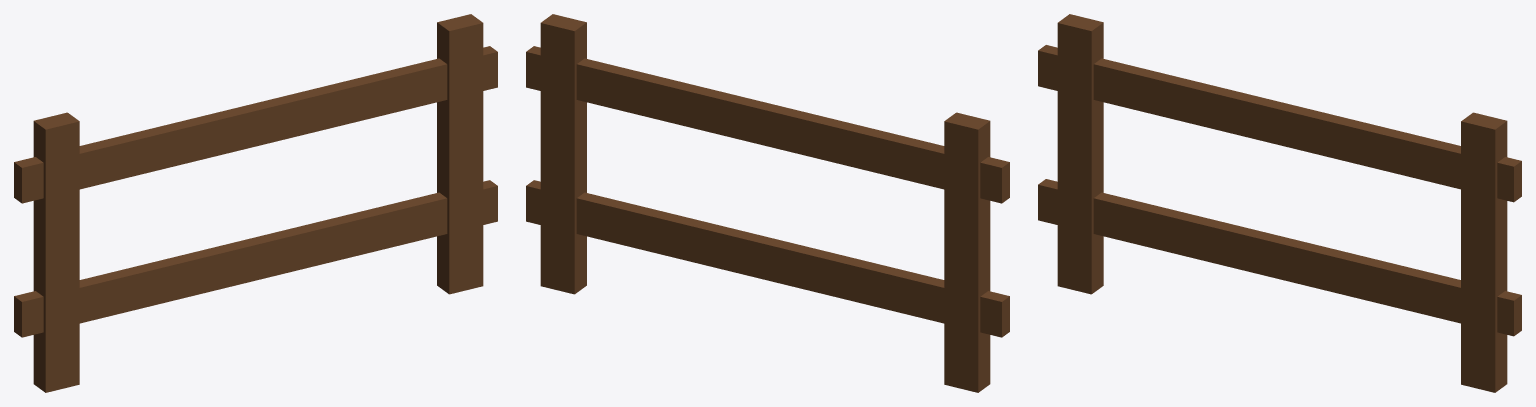
Rendered from fence_1.fbx.
3 views of the same model, side by side, from view 1: azimuth 30°, elevation 25°; view 2: azimuth 150°, elevation 25°; view 3: azimuth 330°, elevation 25° (orthographic).
Visible parts, largest first — view 1: barrel; view 2: barrel; view 3: barrel.
Part boxes in pixels (left/top/right/bottom): barrel: left=14, top=14, right=497, bottom=392; barrel: left=526, top=14, right=1009, bottom=392; barrel: left=1038, top=14, right=1521, bottom=392.
Size of the model in its own units: 378 by 200 by 16.77.
